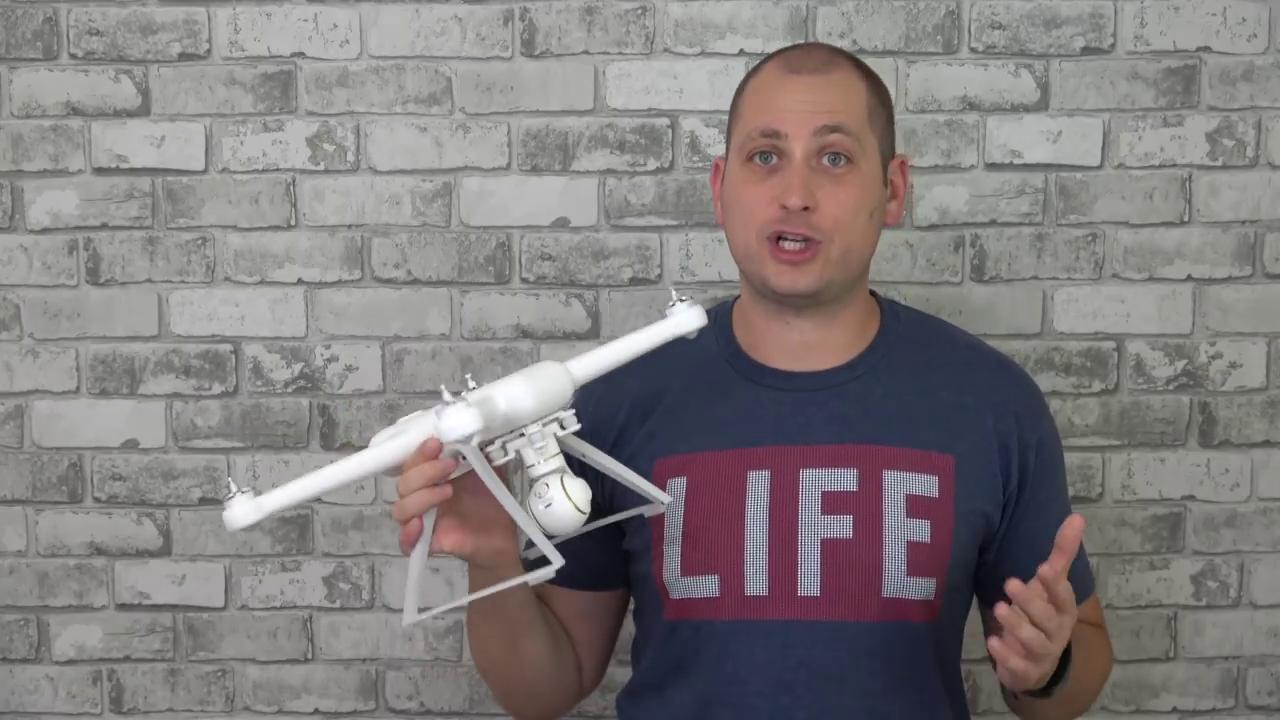drone: (212, 277, 718, 564)
